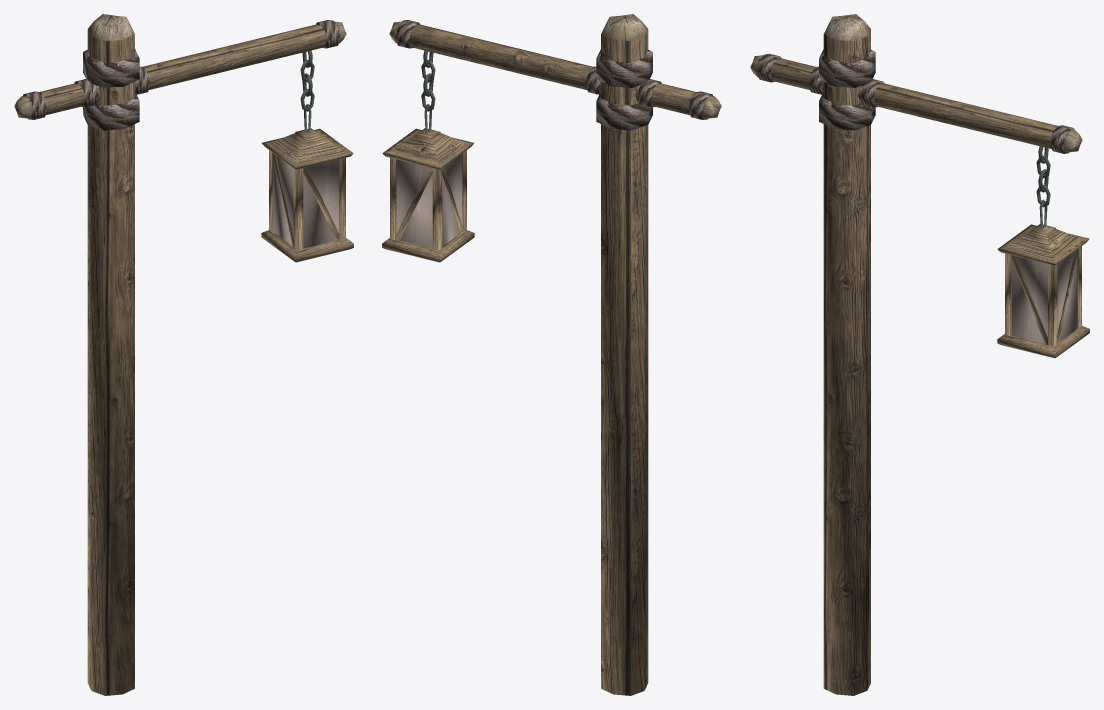
The model's file is lightPost.obj.
3 renders of one model, left to right at view 1: azimuth 30°, elevation 25°; view 2: azimuth 150°, elevation 25°; view 3: azimuth 330°, elevation 25°, orthographic.
Parts seen in each view (by area): view 1: Lantern_Plane.002; view 2: Lantern_Plane.002; view 3: Lantern_Plane.002.
Boxes of the visible parts, left/top/right/bottom form: Lantern_Plane.002: left=14, top=14, right=353, bottom=695; Lantern_Plane.002: left=382, top=14, right=721, bottom=695; Lantern_Plane.002: left=750, top=14, right=1089, bottom=695.
Size of the model in its own units: 3.41 by 6.63 by 0.6079.
Materials: 4 (4 with a texture image).
